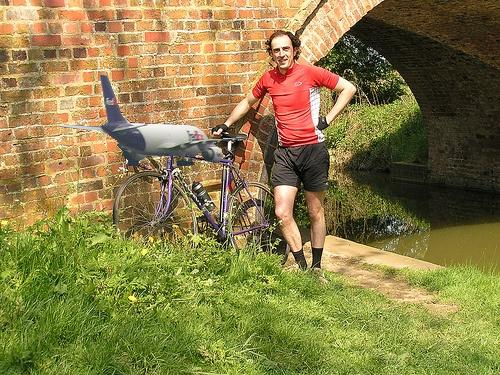tampered: (60, 76, 254, 166)
